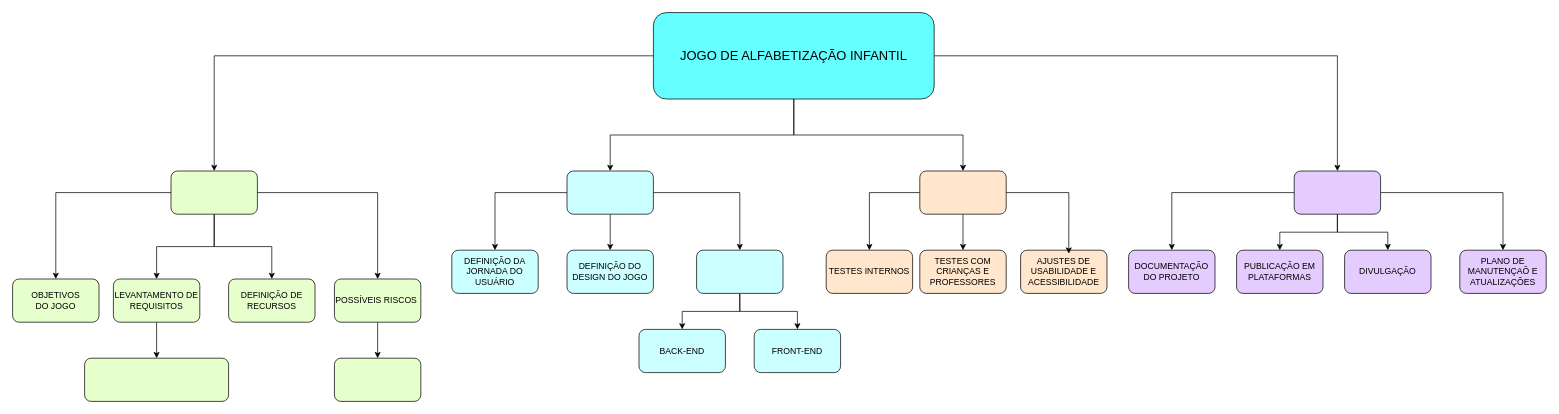
Image size: 1559x414. Some labels were removed from this diagram. Here are the shapes that lost their labels. From the top down, the centre of each, then its label:
(x=213, y=192): PLANEJAMENTO
(x=609, y=192): EXECUÇÃO
(x=962, y=192): TESTES
(x=1337, y=192): CONCLUSÃO
(x=739, y=271): PLANEJAMENTO DA PROGRMAÇÃO
(x=156, y=379): METODOLOGIA/ESTRUTURA PEDAGOGICA
(x=377, y=379): PLANOS DE MITIGAÇÃO
